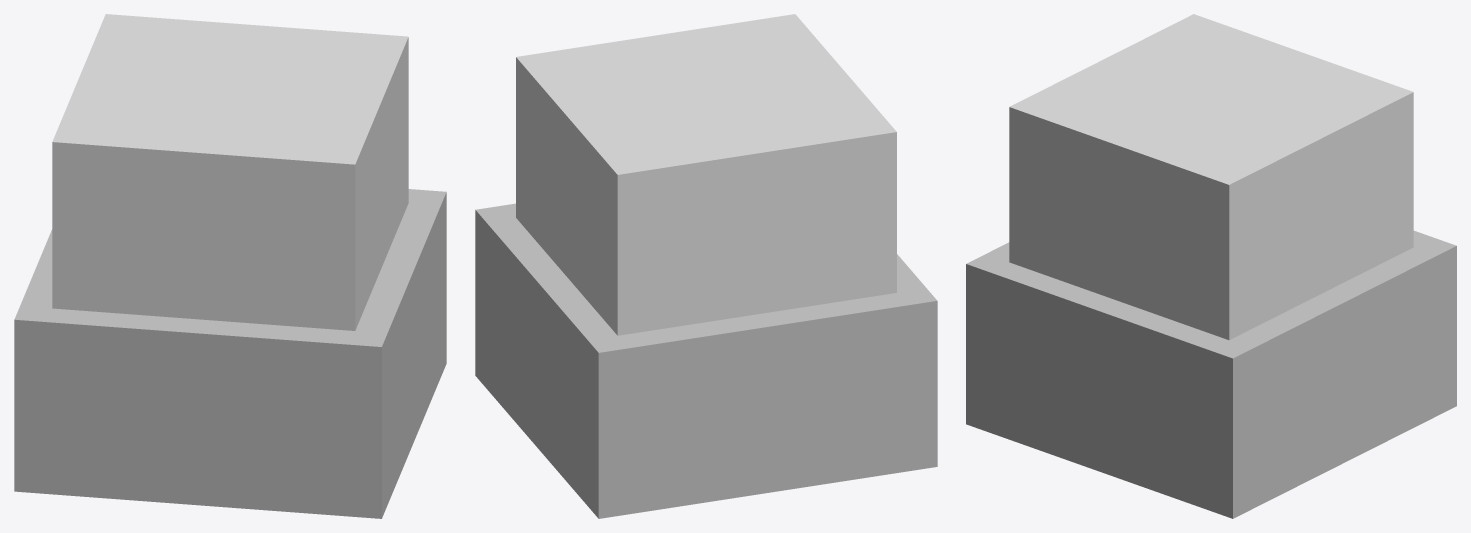
Rendered from FitaDeMobius.gltf.
3 views of the same model, side by side, from view 1: azimuth 30°, elevation 25°; view 2: azimuth 150°, elevation 25°; view 3: azimuth 270°, elevation 25° (orthographic). The views are drawn at different scales.
Parts seen in each view (by area): view 1: FitaDeMobius; view 2: FitaDeMobius; view 3: FitaDeMobius.
Boxes of the visible parts, bbox=[...] form: FitaDeMobius: bbox=[14, 14, 446, 518]; FitaDeMobius: bbox=[475, 14, 937, 518]; FitaDeMobius: bbox=[966, 14, 1456, 518].
Bounding box in the file's own units: 2.34 × 1.66 × 2.34.
1 material, 1 textured.
